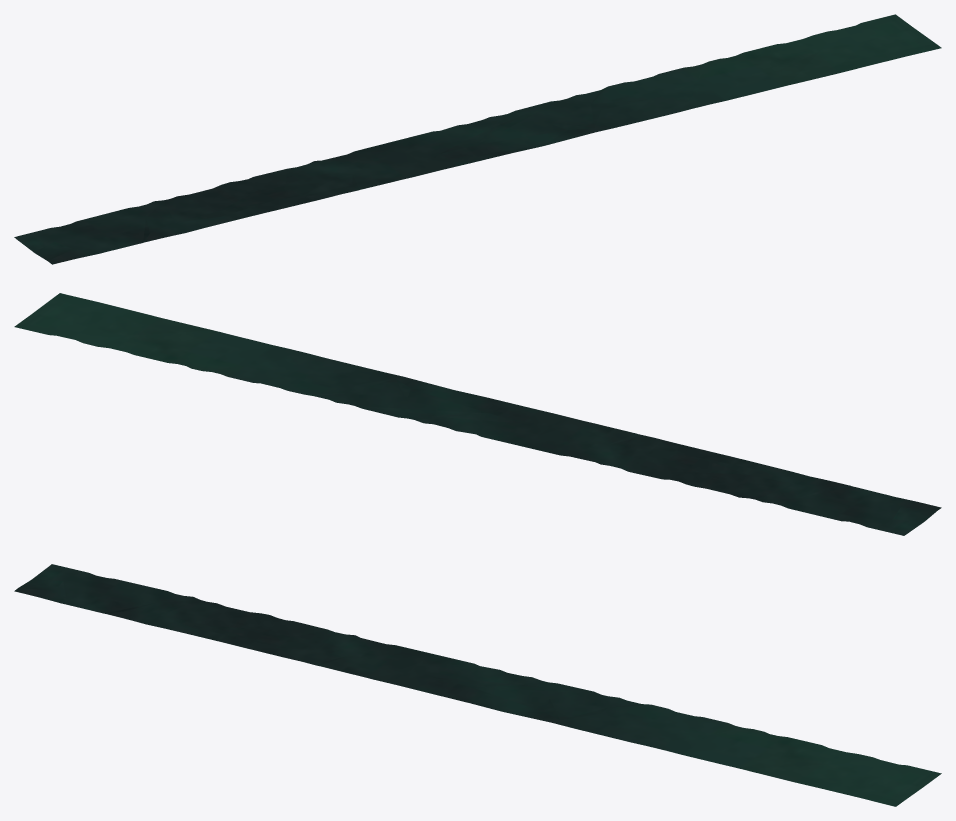
3 views of the same model, one above another, from view 1: azimuth 30°, elevation 25°; view 2: azimuth 150°, elevation 25°; view 3: azimuth 330°, elevation 25° (orthographic).
Size of the model in its own units: 418 by 0.7526 by 37.77.
Materials: 1 (1 with a texture image).
